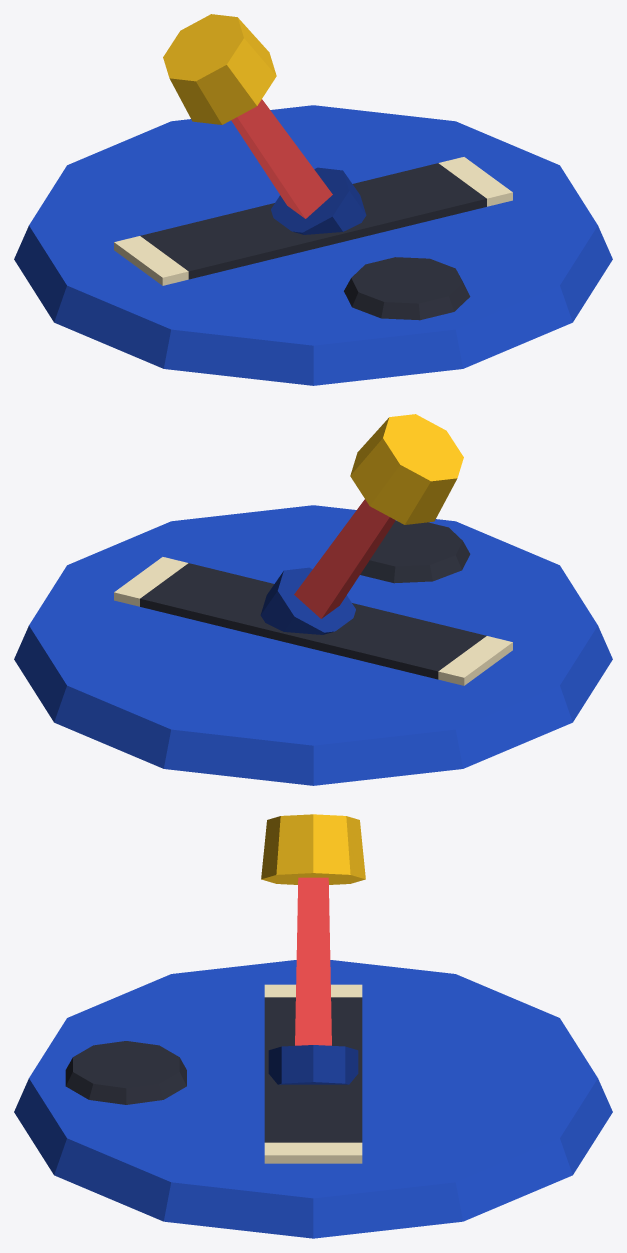
File: switch.glb
3 renders of one model, top to bottom at view 1: azimuth 30°, elevation 25°; view 2: azimuth 150°, elevation 25°; view 3: azimuth 270°, elevation 25°, orthographic.
Visible parts, largest first — view 1: SwitchPlate, SwitchLever; view 2: SwitchPlate, SwitchLever; view 3: SwitchPlate, SwitchLever.
Part boxes in pixels (x1,y1,x2,y2): SwitchPlate: (14, 105, 612, 385); SwitchLever: (163, 14, 366, 234); SwitchPlate: (14, 505, 612, 785); SwitchLever: (260, 414, 463, 634); SwitchPlate: (14, 960, 612, 1238); SwitchLever: (261, 814, 365, 1084).
Bounding box in the file's own units: 0.8 × 0.3842 × 0.8.
1 material, 1 textured.
